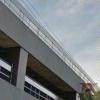Bridge: (3, 0, 84, 89)
